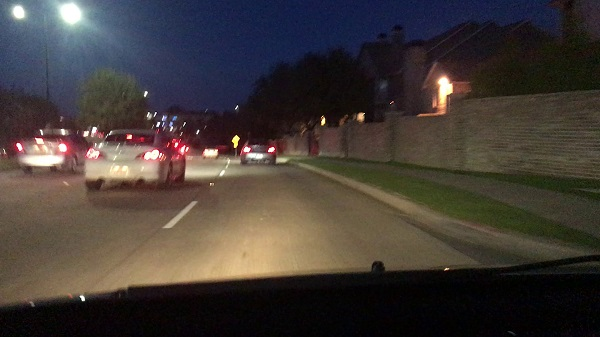car: (87, 127, 188, 187), (13, 131, 90, 174), (239, 136, 278, 163), (200, 144, 217, 157)
